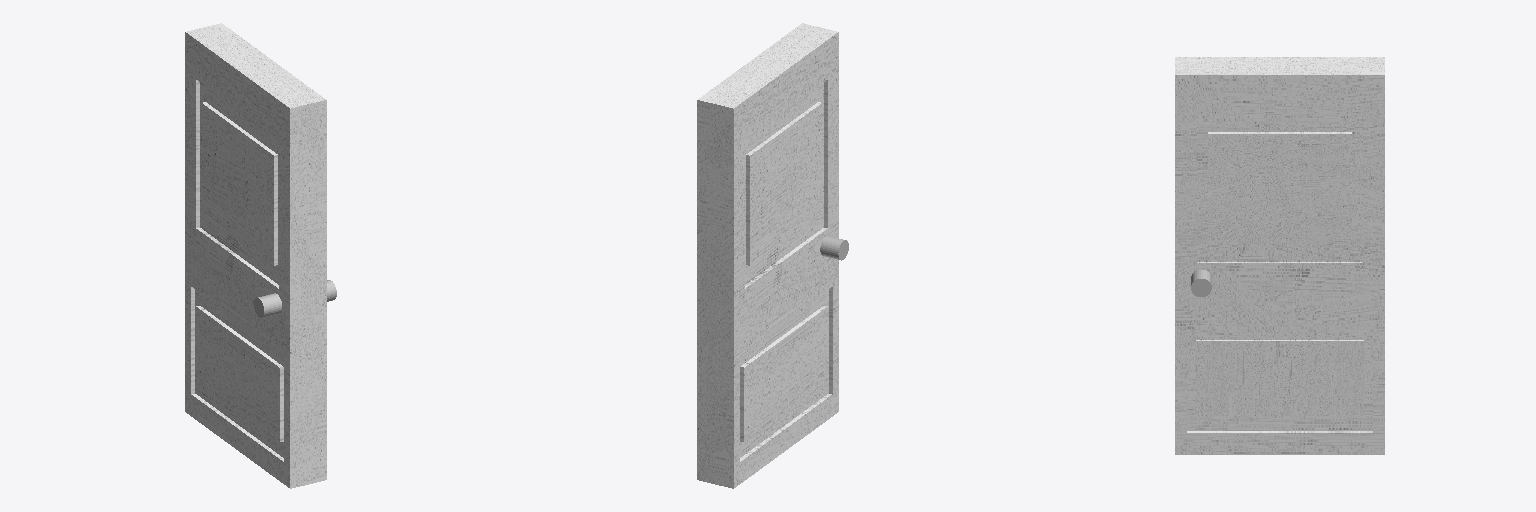
3 views of the same model, side by side, from view 1: azimuth 30°, elevation 25°; view 2: azimuth 150°, elevation 25°; view 3: azimuth 270°, elevation 25° (orthographic).
Visible parts, largest first — view 1: Cube, Cylinder.001; view 2: Cube, Cylinder.001; view 3: Cube.
Boxes of the visible parts, box(x1,y1,x2,y2) form: Cube: box(185, 23, 326, 488); Cylinder.001: box(254, 293, 281, 317); Cube: box(697, 23, 838, 488); Cylinder.001: box(820, 236, 848, 260); Cube: box(1175, 57, 1384, 454).
Bounding box in the file's own units: 3.2 × 16 × 8.
Materials: 3 (1 with a texture image).